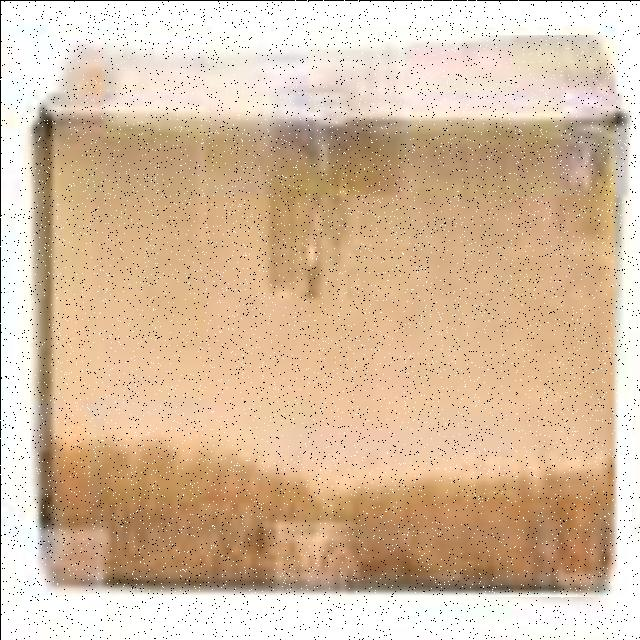defect: (22, 34, 631, 596)
